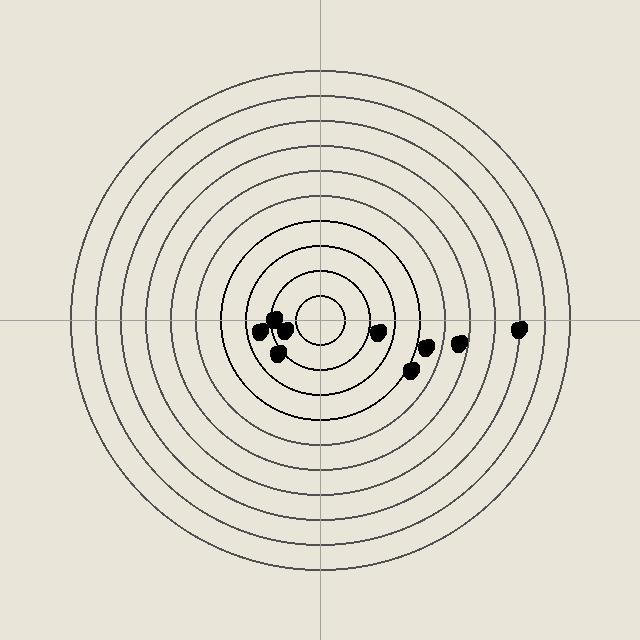horizontal_scatter: (400, 360, 420, 380), (267, 343, 287, 363), (508, 319, 528, 339), (448, 333, 468, 353), (274, 320, 294, 340), (263, 309, 283, 329), (415, 337, 435, 357), (367, 322, 387, 342), (249, 321, 269, 341)
